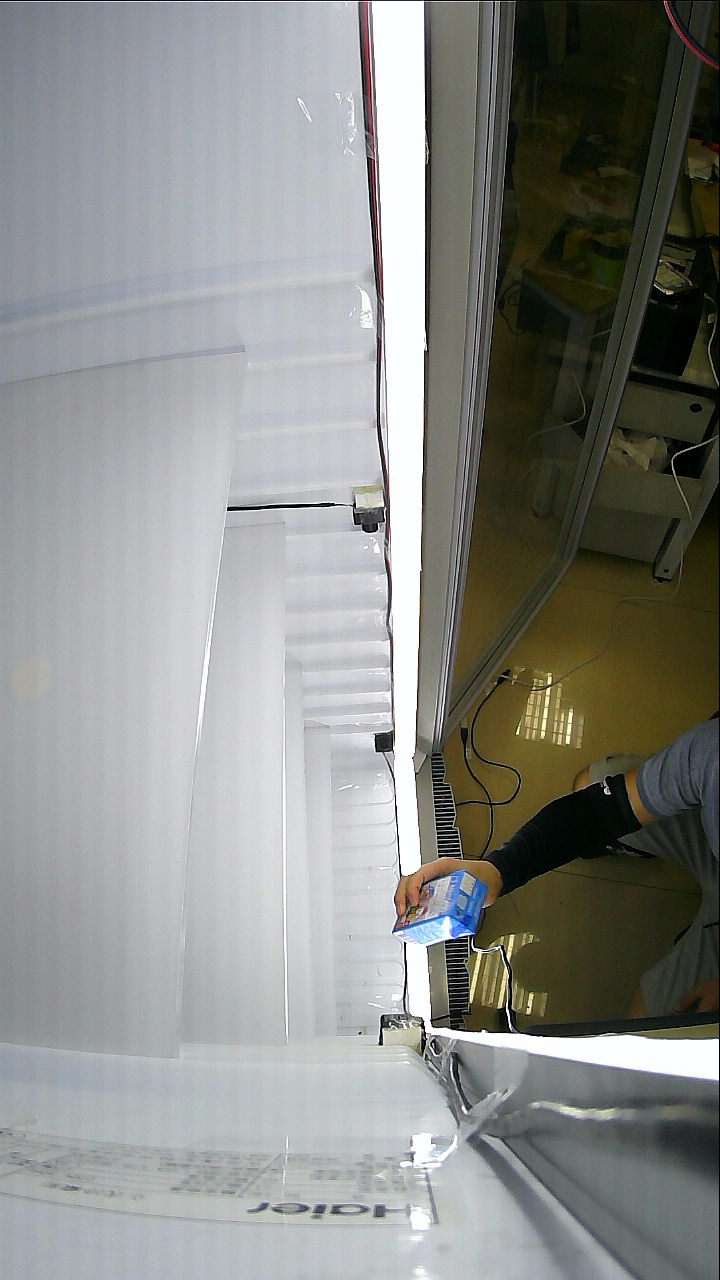VitaSoyOriginal: (397, 819, 538, 953)
